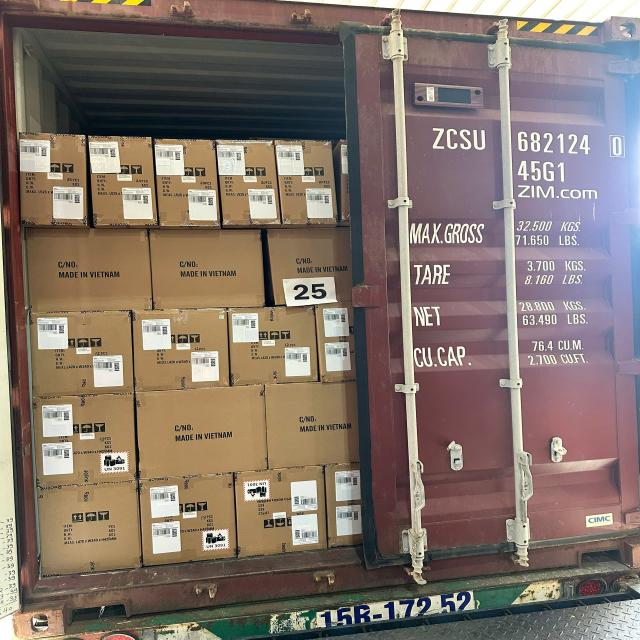Carton: (136, 388, 264, 479), (19, 233, 148, 314), (32, 488, 137, 578), (33, 394, 134, 486), (144, 234, 262, 312), (25, 315, 130, 402), (137, 478, 233, 570), (266, 382, 360, 468), (238, 473, 329, 560), (135, 310, 232, 391), (231, 307, 320, 385), (20, 135, 90, 230), (269, 233, 353, 310), (90, 139, 157, 231), (157, 141, 221, 231), (272, 141, 335, 229), (219, 143, 282, 230), (318, 308, 356, 385)
